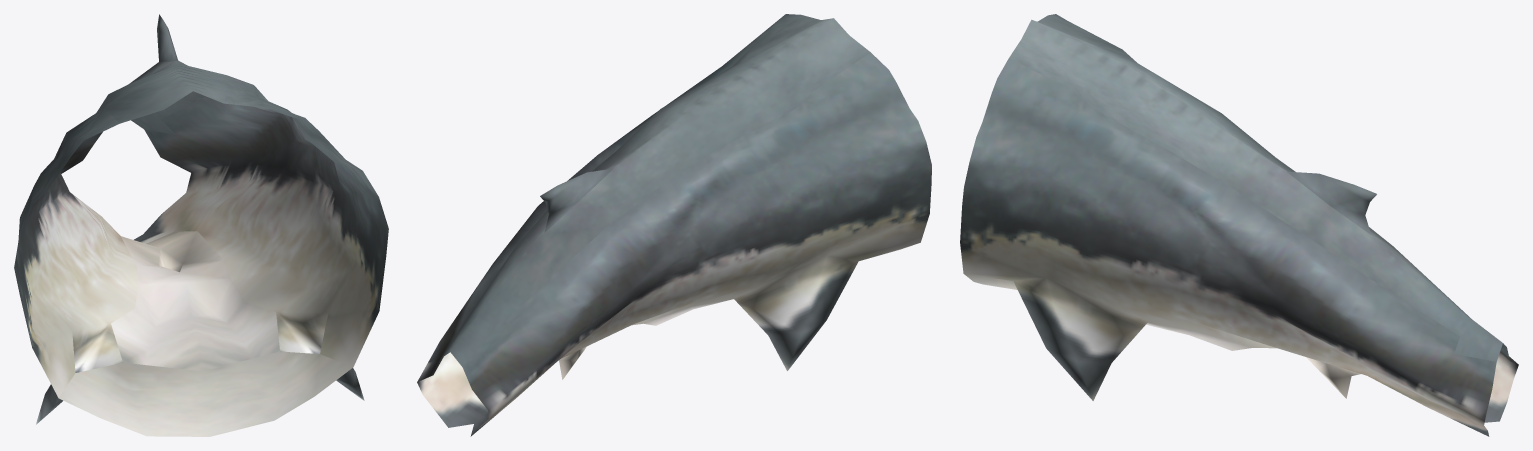
File: ParteTraseraTiburon.obj
The picture shows the model from 3 angles, left to right: view 1: azimuth 30°, elevation 25°; view 2: azimuth 150°, elevation 25°; view 3: azimuth 270°, elevation 25°; orthographic projection. The views are drawn at different scales.
Parts seen in each view (by area): view 1: ParteTraseraTiburon; view 2: ParteTraseraTiburon; view 3: ParteTraseraTiburon.
Part boxes in pixels (x1,y1,x2,y2): ParteTraseraTiburon: (14, 14, 388, 436); ParteTraseraTiburon: (417, 14, 931, 436); ParteTraseraTiburon: (960, 14, 1518, 436).
Size of the model in its own units: 12.17 by 10.81 by 16.88.
1 material, 1 textured.
